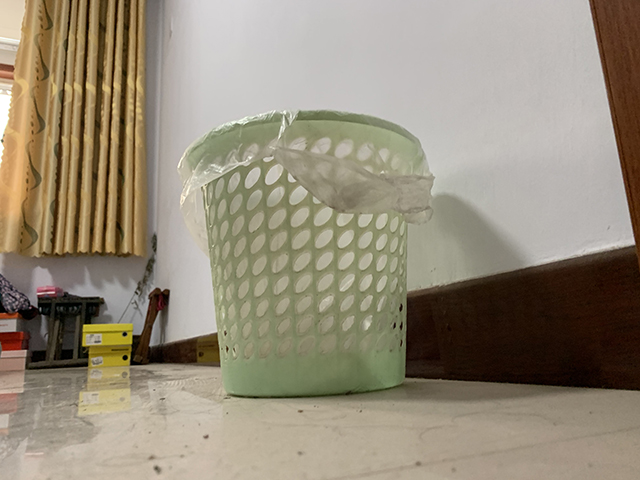curtain: (1, 1, 142, 259)
stool: (27, 289, 106, 370), (130, 287, 172, 365)
trashcan: (184, 108, 427, 399)
